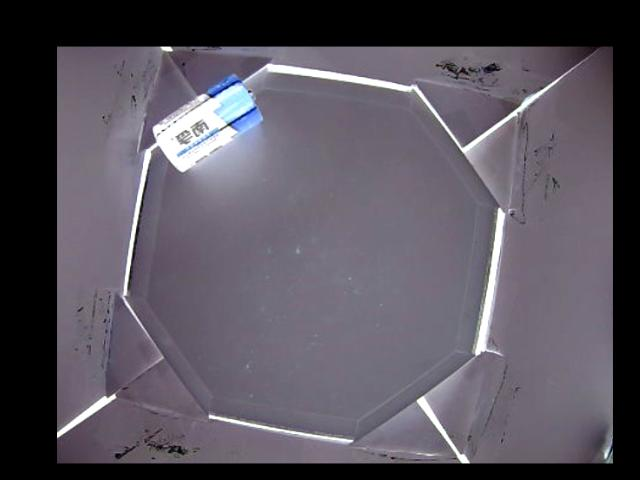Battery: (150, 73, 262, 173)
